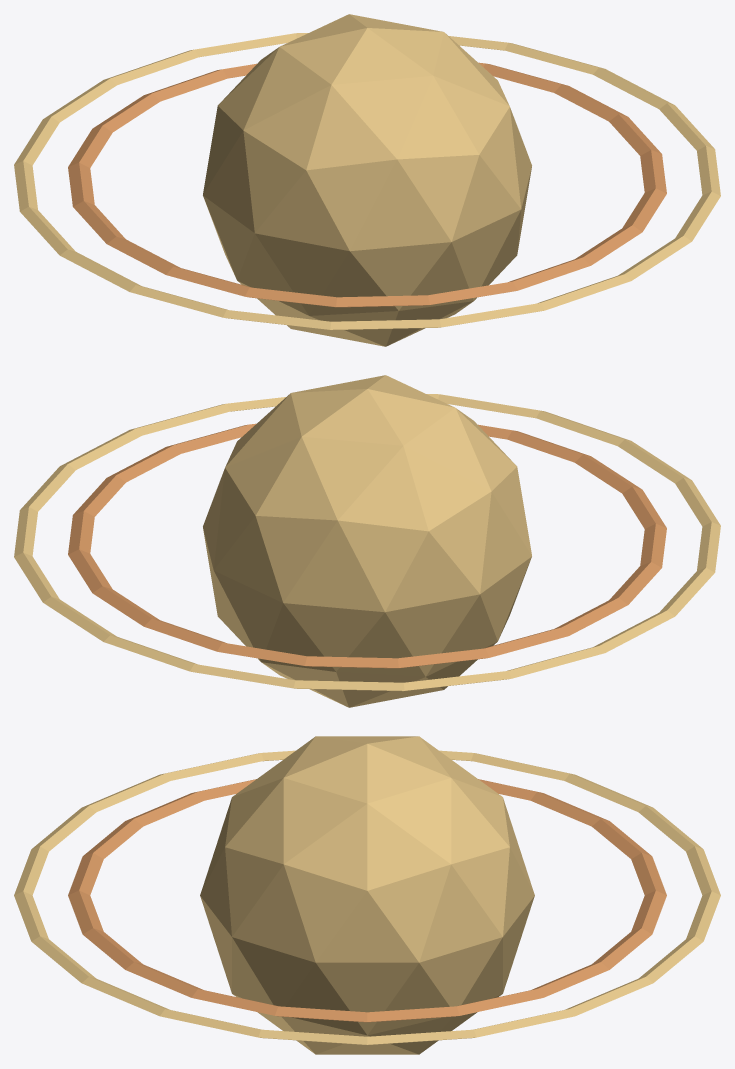
File: lowpoly-planet_saturn.glb
The picture shows the model from 3 angles, top to bottom: view 1: azimuth 30°, elevation 25°; view 2: azimuth 150°, elevation 25°; view 3: azimuth 270°, elevation 25°; orthographic projection.
Parts seen in each view (by area): view 1: planet_saturn; view 2: planet_saturn; view 3: planet_saturn.
Boxes of the visible parts, <box> form: planet_saturn: <box>14,14,720,346</box>; planet_saturn: <box>14,375,720,707</box>; planet_saturn: <box>14,736,720,1054</box>.
Size of the model in its own units: 3.8 by 1.8 by 3.8.
